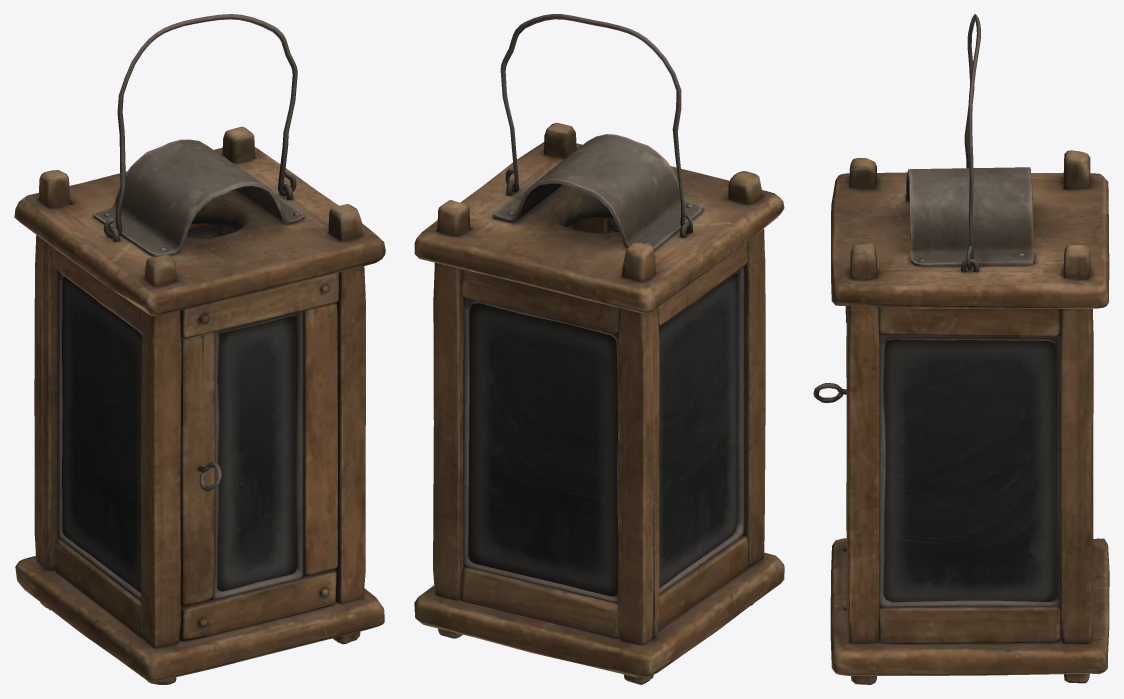
Rendered from wooden_lantern_01.glb.
3 renders of one model, left to right at view 1: azimuth 30°, elevation 25°; view 2: azimuth 150°, elevation 25°; view 3: azimuth 270°, elevation 25°, orthographic.
Visible parts, largest first — view 1: wooden_lantern_01; view 2: wooden_lantern_01; view 3: wooden_lantern_01.
Part boxes in pixels (x1,y1,x2,y2): wooden_lantern_01: (14, 14, 385, 684); wooden_lantern_01: (414, 14, 784, 684); wooden_lantern_01: (813, 14, 1109, 684).
Size of the model in its own units: 0.221 by 0.5301 by 0.2347.
Materials: 2 (2 with a texture image).
